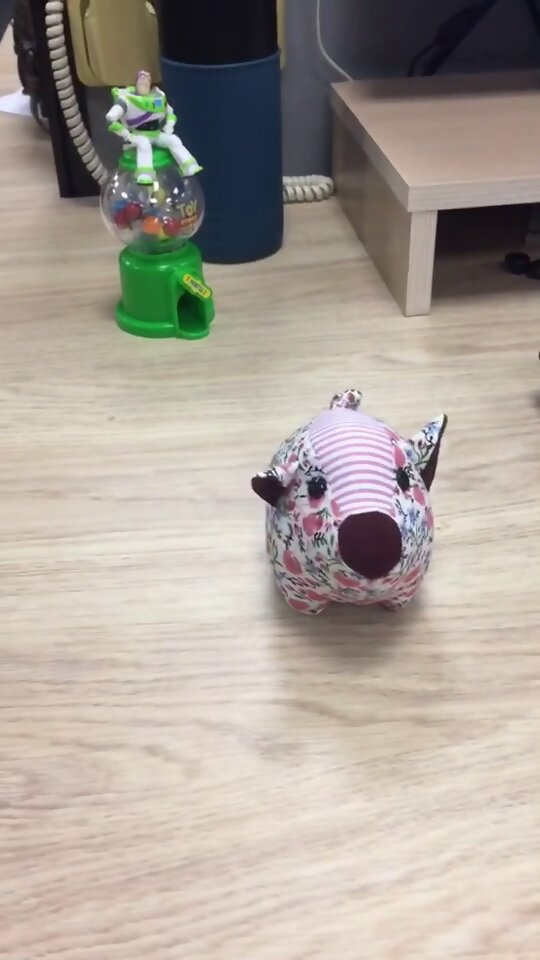pig: (245, 383, 451, 618)
